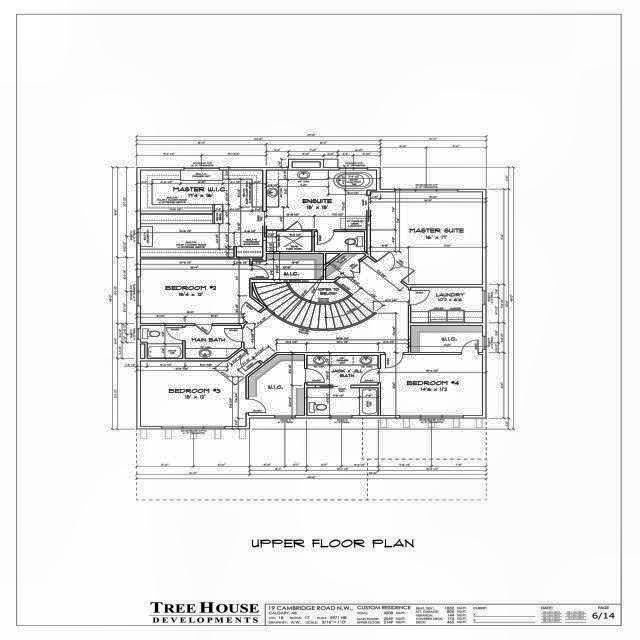room: (141, 170, 262, 257), (371, 192, 482, 284), (141, 350, 261, 426), (141, 259, 263, 324), (267, 170, 376, 230), (381, 355, 482, 415), (249, 355, 304, 415), (411, 287, 482, 323), (307, 356, 378, 385), (307, 388, 378, 415), (411, 326, 482, 352), (186, 326, 241, 358), (320, 244, 365, 283), (253, 254, 323, 279), (141, 326, 182, 358), (315, 232, 364, 251), (267, 231, 311, 251)
